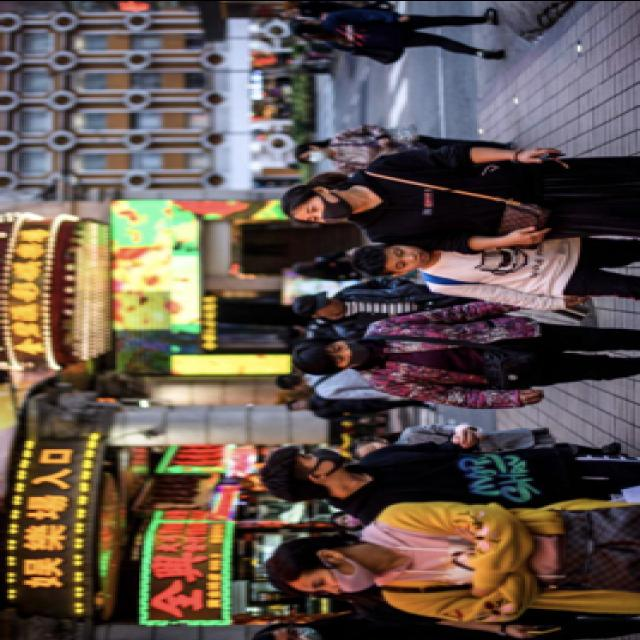mask_weared_incorrect: (302, 562, 374, 596)
with_mask: (319, 340, 371, 370), (297, 192, 345, 224), (298, 448, 348, 477), (275, 626, 316, 640), (298, 147, 328, 165)
without_mask: (386, 243, 424, 272), (314, 298, 340, 314)
